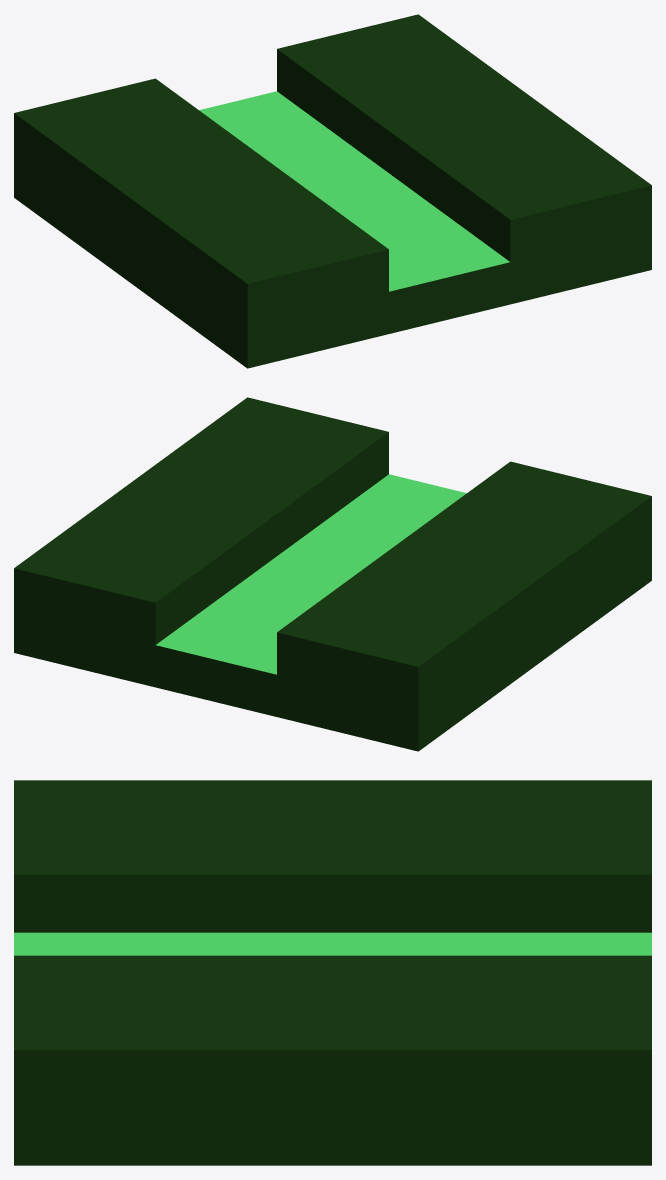
Rendered from MG Lane.fbx.
3 views of the same model, one above another, from view 1: azimuth 30°, elevation 25°; view 2: azimuth 150°, elevation 25°; view 3: azimuth 270°, elevation 25° (orthographic). The views are drawn at different scales.
Visible parts, largest first — view 1: MG Lane; view 2: MG Lane; view 3: MG Lane.
Boxes of the visible parts, box(x1,y1,x2,y2) form: MG Lane: box(14, 14, 651, 368); MG Lane: box(14, 397, 651, 751); MG Lane: box(14, 780, 651, 1165).
Size of the model in its own units: 200 by 40 by 200.
